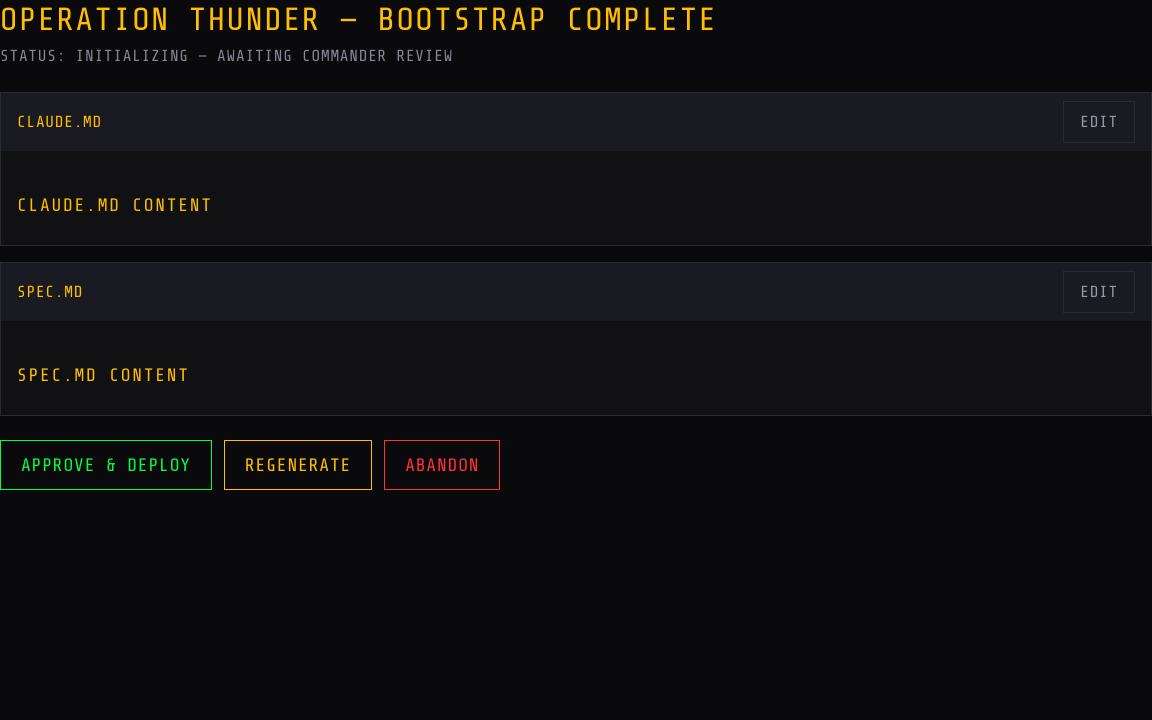
Scenario: BootstrapReview › enters edit mode for CLAUDE.md and shows textarea with content
Click the 1st button "EDIT" at (1099, 122), box top-left (1063, 101), bottom-right (1135, 143)
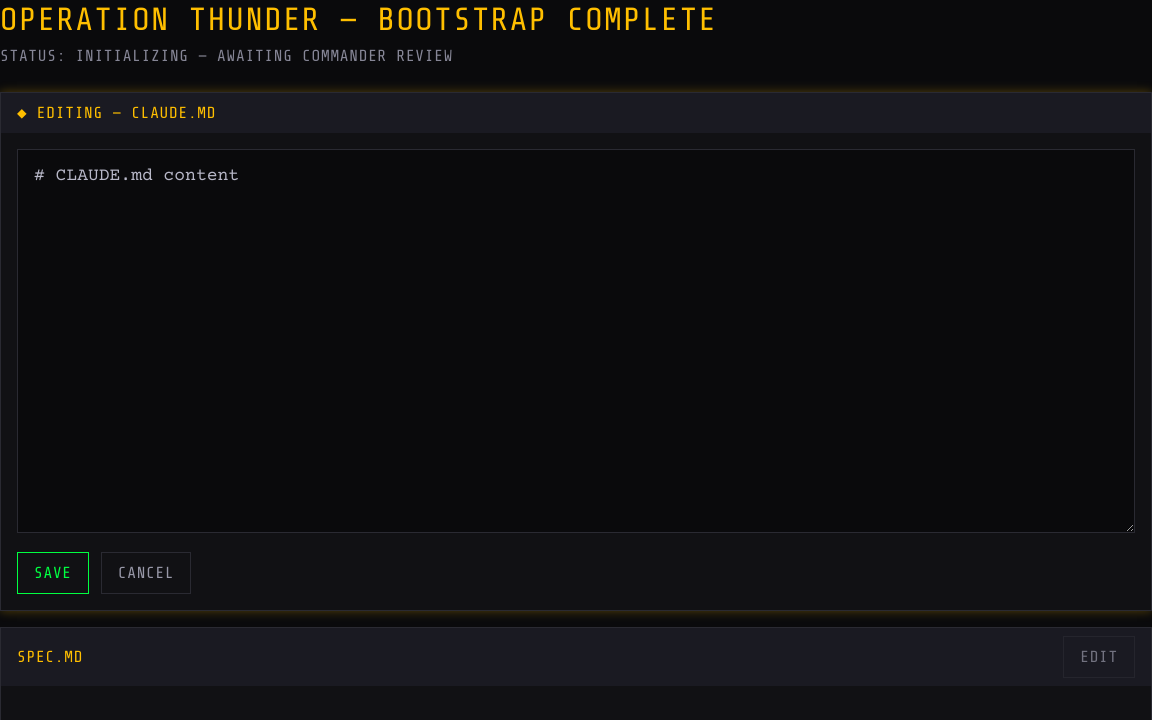
Expected: the text "◆ EDITING — CLAUDE.md" is shown, top-left (17, 101), bottom-right (216, 125)
Expected: the button "SAVE" is shown, top-left (17, 552), bottom-right (89, 594)
Expected: the button "CANCEL" is shown, top-left (101, 552), bottom-right (191, 594)
